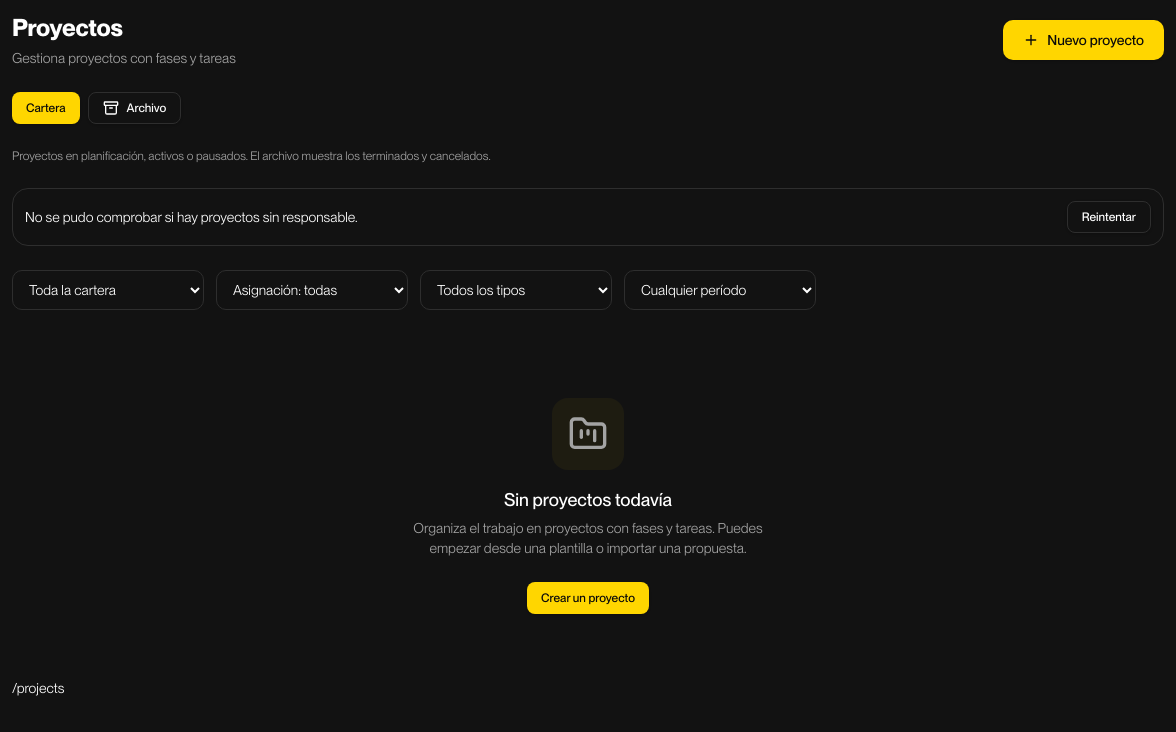
Test case: projects filter navigation › keeps the project list usable when the owner count fails and offers retry
This screenshot has width=1176, height=732.
Expected: the message shows "No se pudo comprobar si hay proyectos sin responsable", [25,209,358,225]
Expected: the text "2 proyectos sin responsable." is not shown
Click the button "Reintentar". click: (1109, 217)
box: [1067,201,1151,233]
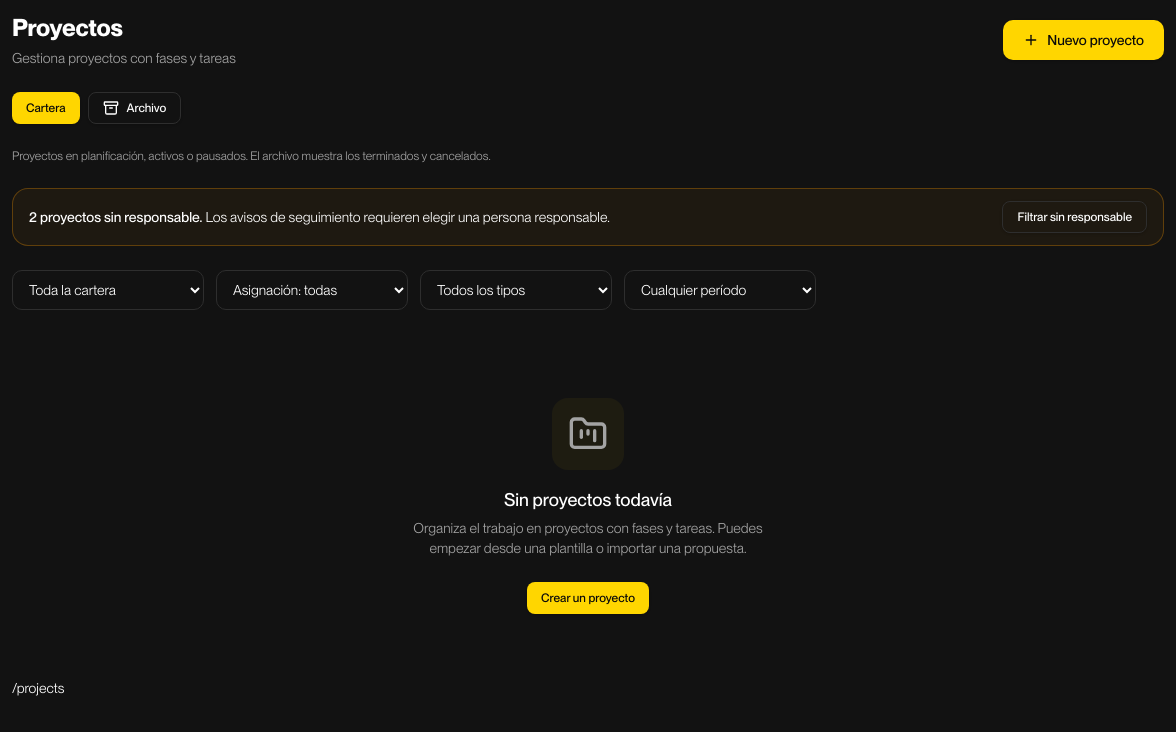
Now the text "2 proyectos sin responsable." is shown, box [29,209,202,225]
